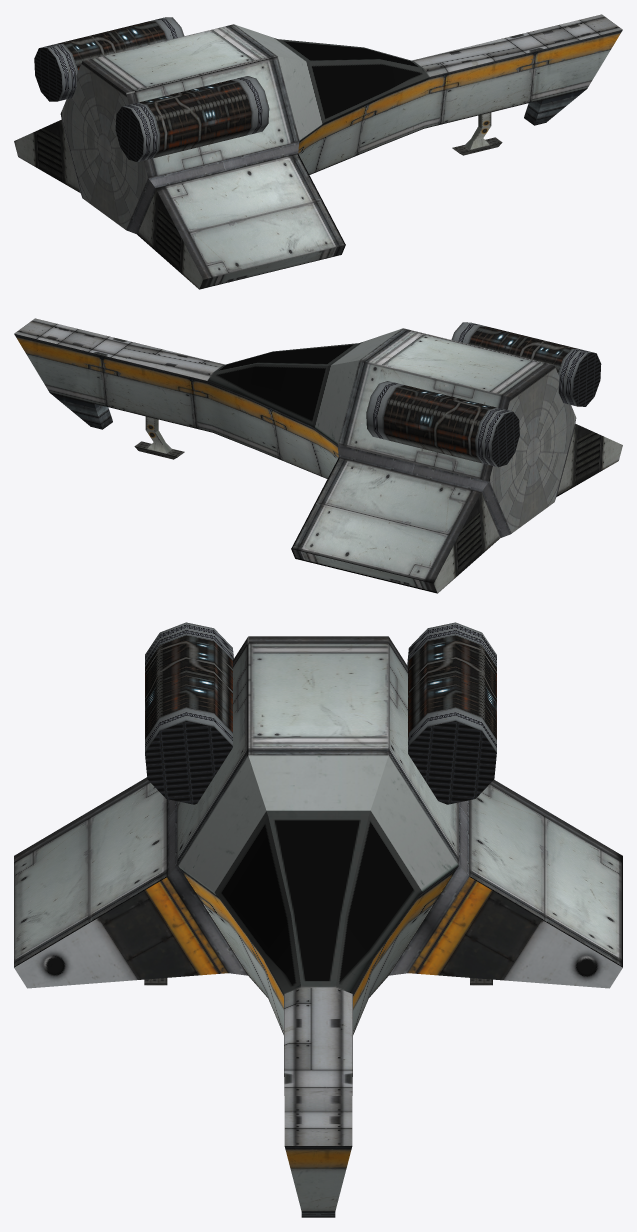
The model's file is SS1tri.obj.
3 renders of one model, top to bottom at view 1: azimuth 30°, elevation 25°; view 2: azimuth 150°, elevation 25°; view 3: azimuth 270°, elevation 25°, orthographic. The views are drawn at different scales.
Visible parts, largest first — view 1: StarShip, StarShip_Engine, StarShip_Engine1, StarShip_FrontSkid; view 2: StarShip, StarShip_Engine1, StarShip_Engine, StarShip_FrontSkid; view 3: StarShip, StarShip_Engine1, StarShip_Engine.
Part boxes in pixels (<box>): StarShip: <box>14,14,622,289</box>; StarShip_Engine: <box>115,76,269,161</box>; StarShip_Engine1: <box>34,17,184,101</box>; StarShip_FrontSkid: <box>452,112,502,155</box>; StarShip: <box>14,318,622,593</box>; StarShip_Engine1: <box>366,381,519,467</box>; StarShip_Engine: <box>451,322,601,406</box>; StarShip_FrontSkid: <box>134,416,184,459</box>; StarShip: <box>14,636,622,1217</box>; StarShip_Engine1: <box>407,622,496,804</box>; StarShip_Engine: <box>145,622,233,804</box>.
Size of the model in its own units: 11.98 by 3.61 by 7.51.
